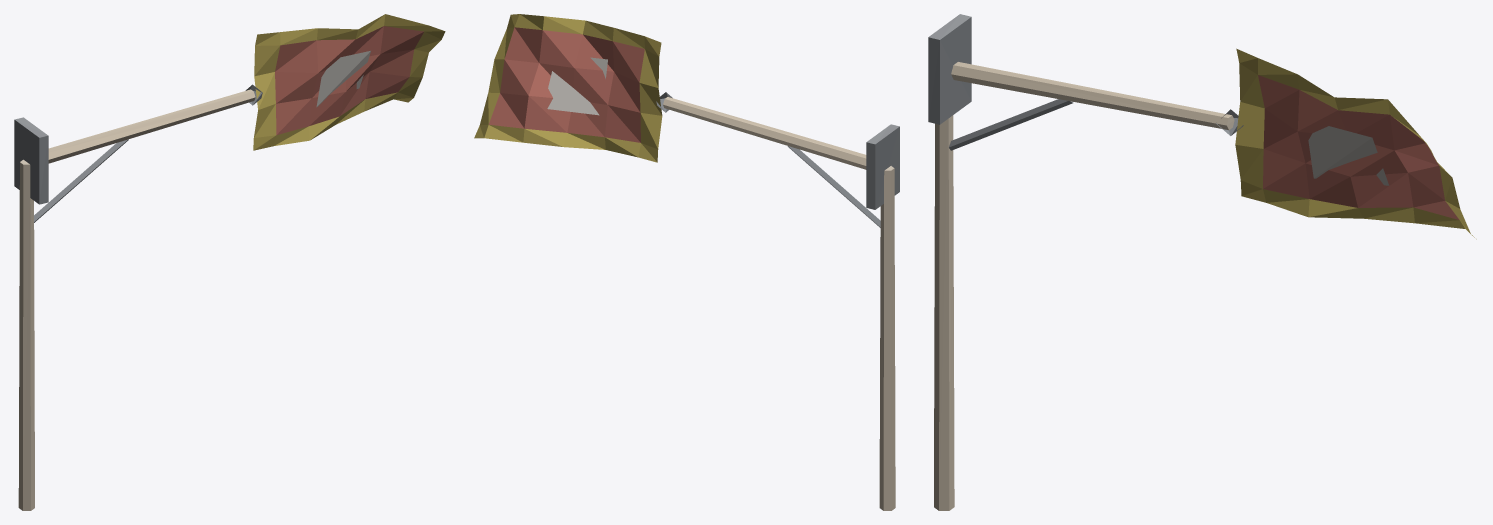
File: flag.rect.chizhi__pole.horizontal.xiecheng__armFly.glb
3 renders of one model, left to right at view 1: azimuth 30°, elevation 25°; view 2: azimuth 150°, elevation 25°; view 3: azimuth 330°, elevation 25°, orthographic. The views are drawn at different scales.
Parts seen in each view (by area): view 1: flag.rect.chizhi; view 2: flag.rect.chizhi; view 3: flag.rect.chizhi.
Boxes of the visible parts, <box> form: flag.rect.chizhi: <box>14,14,445,510</box>; flag.rect.chizhi: <box>474,14,899,510</box>; flag.rect.chizhi: <box>928,14,1476,510</box>.
Size of the model in its own units: 3.57 by 3.5 by 0.5998.
